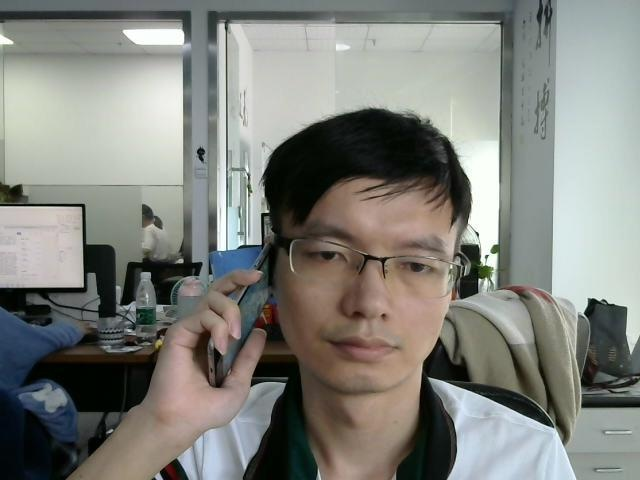hand: (152, 267, 265, 417)
